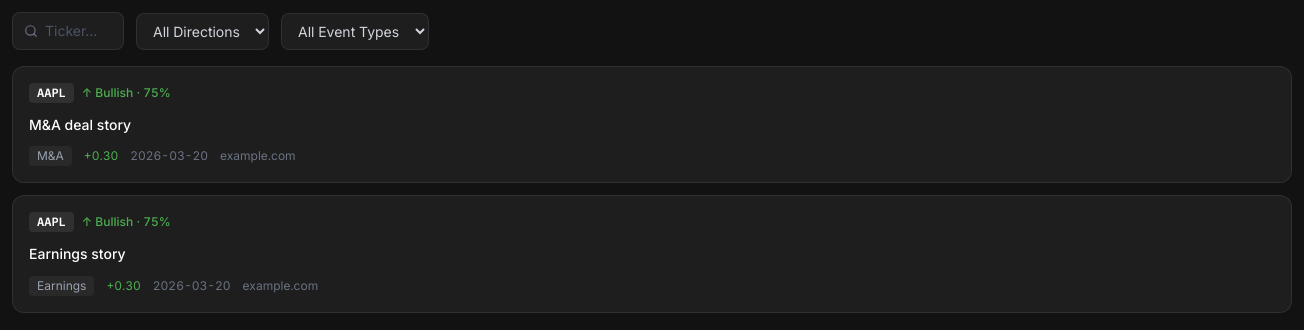
Scenario: NewsFeed › filters m&a event type using correct value
Select "M&A" in the dropdown named "Event Type" at (355, 31), box [281,12,429,50]
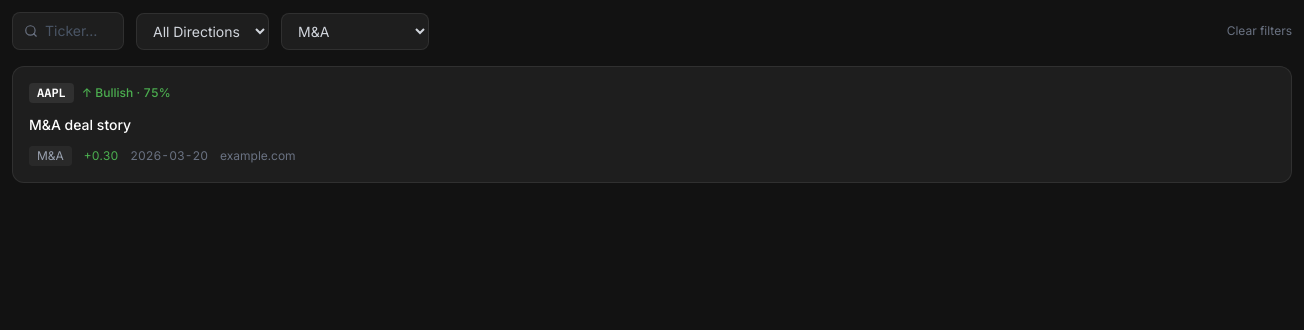
Check: the link "M&A deal story" is shown, box [29,116,131,133]
Check: the link "Earnings story" is gone
